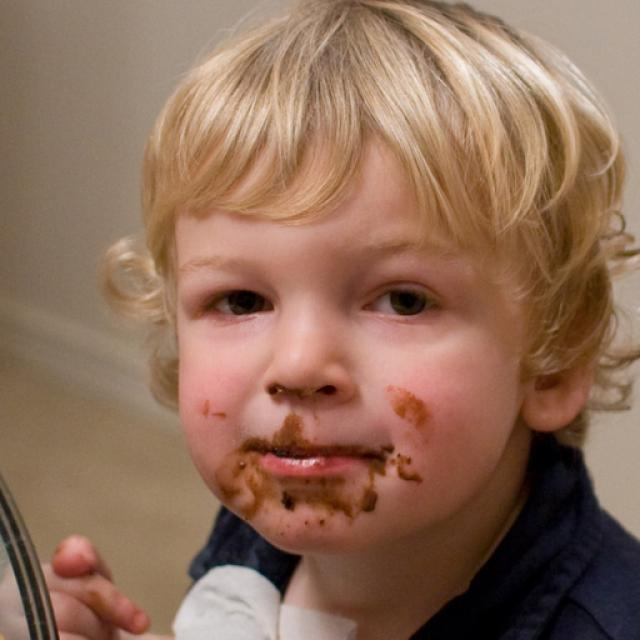sad: (173, 118, 522, 548)
